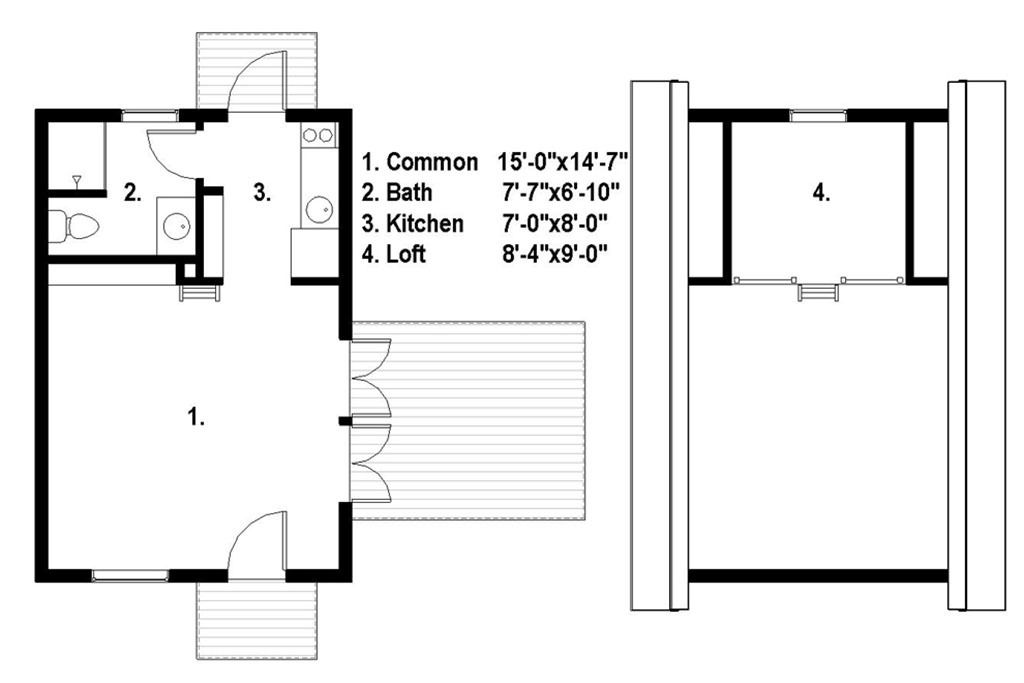door: (224, 503, 300, 584), (346, 418, 401, 503), (347, 337, 402, 419), (224, 43, 290, 110), (140, 129, 205, 185)
large_sink: (37, 203, 112, 249)
small_sink: (154, 191, 195, 261)
window: (789, 100, 855, 134), (89, 566, 172, 587)
